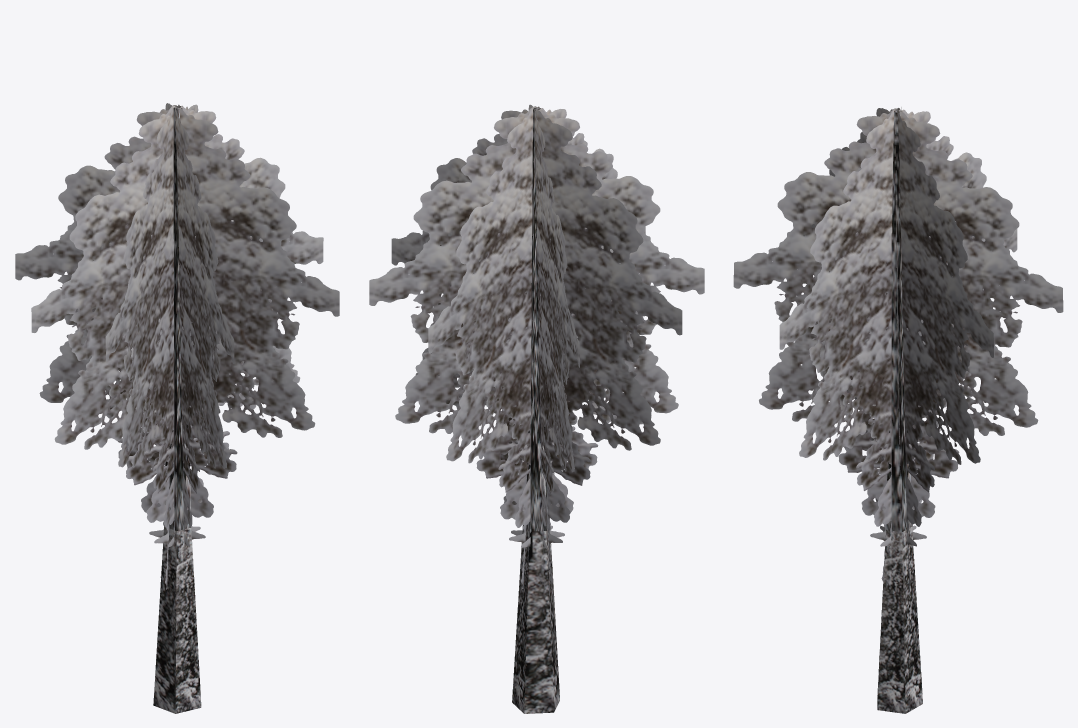
The model's file is Tree2.fbx.
3 views of the same model, side by side, from view 1: azimuth 30°, elevation 25°; view 2: azimuth 150°, elevation 25°; view 3: azimuth 270°, elevation 25° (orthographic).
Visible parts, largest first — view 1: Plane.009, Plane.015, Plane.010, Plane.013, Cylinder.001, Plane.008, Plane.014; view 2: Plane.015, Plane.012, Plane.011, Cylinder.001, Plane.008, Plane.010, Plane.014, Plane.013; view 3: Plane.009, Plane.011, Plane.012, Plane.013, Cylinder.001, Plane.008.
Boxes of the visible parts, bbox=[...] form: Plane.009: bbox=[178, 108, 339, 539]; Plane.015: bbox=[31, 106, 174, 589]; Plane.010: bbox=[105, 107, 174, 585]; Plane.013: bbox=[175, 108, 234, 585]; Cylinder.001: bbox=[153, 106, 201, 713]; Plane.008: bbox=[15, 105, 176, 577]; Plane.014: bbox=[180, 107, 323, 531]; Plane.015: bbox=[536, 110, 682, 588]; Plane.012: bbox=[428, 108, 533, 585]; Plane.011: bbox=[369, 107, 535, 588]; Cylinder.001: bbox=[512, 107, 559, 713]; Plane.008: bbox=[534, 110, 579, 592]; Plane.010: bbox=[538, 109, 704, 578]; Plane.014: bbox=[391, 106, 537, 535]; Plane.013: bbox=[540, 108, 645, 529]; Plane.009: bbox=[779, 109, 894, 586]; Plane.011: bbox=[897, 111, 993, 590]; Plane.012: bbox=[899, 111, 1063, 540]; Plane.013: bbox=[733, 108, 897, 581]; Cylinder.001: bbox=[877, 109, 922, 713]; Plane.008: bbox=[902, 109, 1017, 530].
Size of the model in its own units: 1323 by 2699 by 1308.
1 material, 1 textured.
